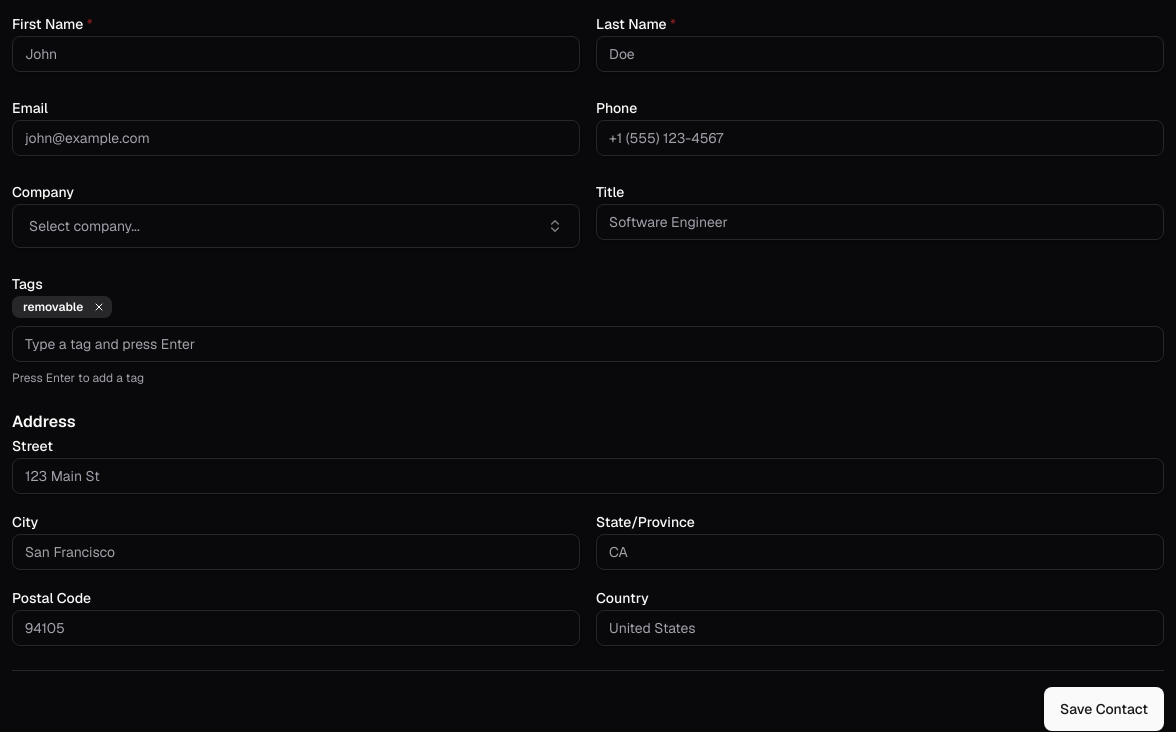
it: ContactForm › User Interactions › removes tag when X button is clicked
Expected: the text "removable" is shown, [12,296,112,318]
Click the button named "remove removable": (99, 307) [91,299,107,315]
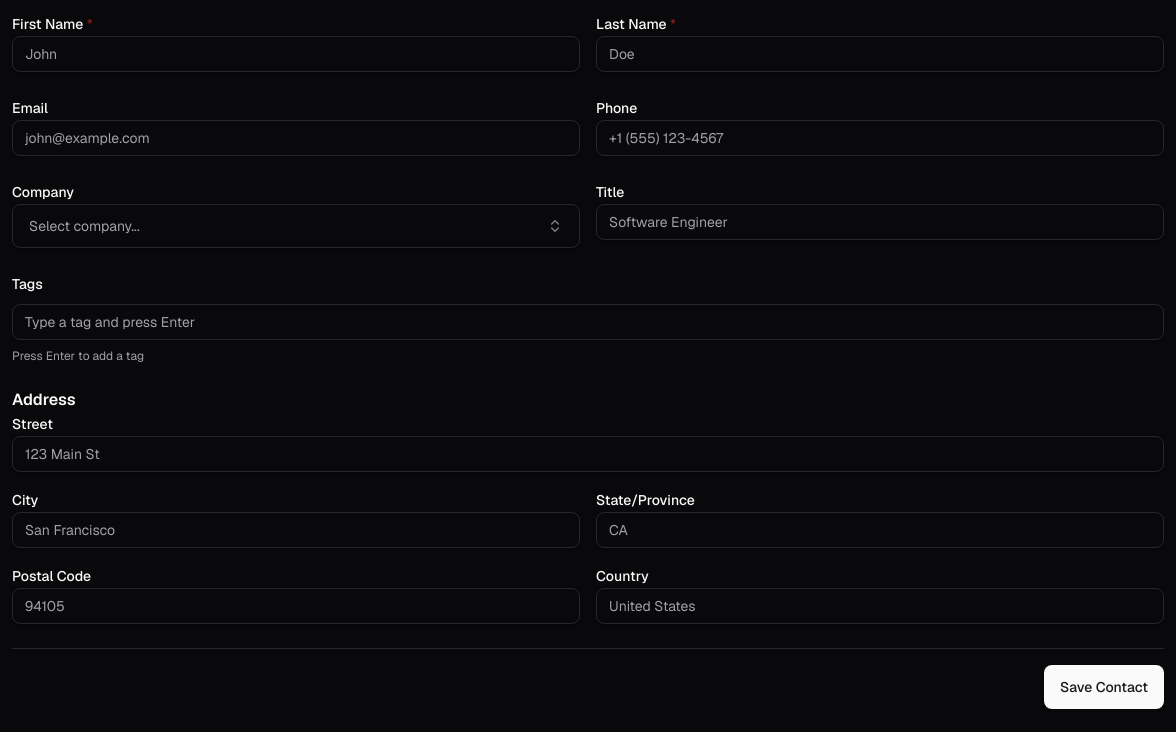
Now the text "removable" is gone
